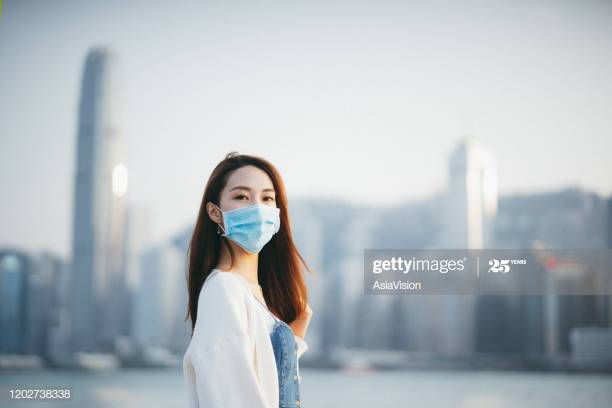surgical: (216, 205, 284, 254)
